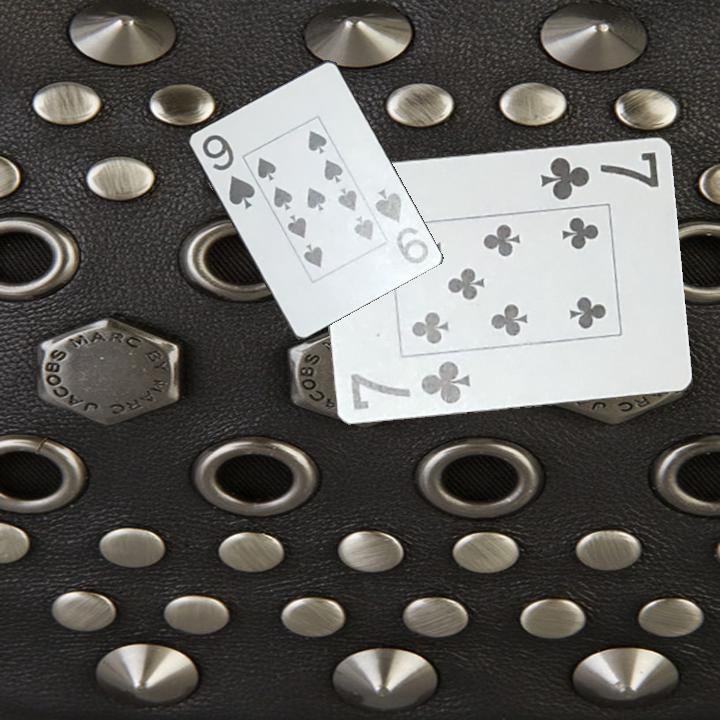7c: (347, 356, 474, 412), (537, 147, 663, 203)
9s: (368, 185, 431, 267), (198, 131, 258, 212)
